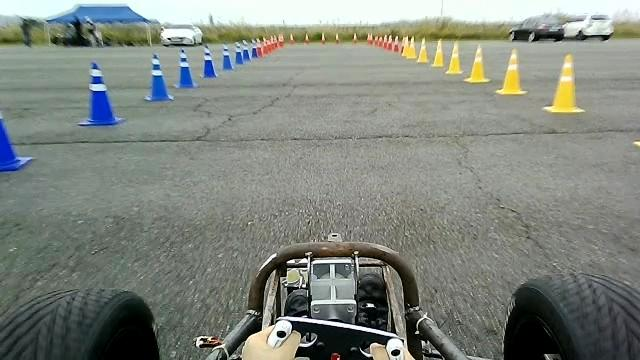blue cone: (77, 61, 126, 126), (144, 53, 174, 101), (172, 47, 198, 89), (200, 44, 218, 79), (218, 42, 234, 70)
yellow cone: (541, 53, 585, 113), (495, 48, 528, 95), (463, 43, 491, 83), (444, 40, 464, 74), (432, 36, 444, 66), (416, 36, 429, 63)
